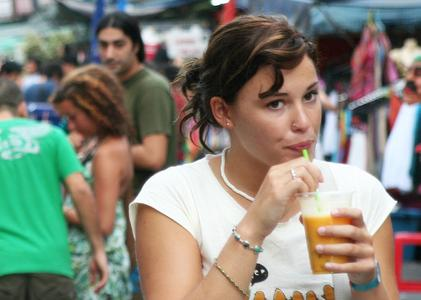person: (128, 13, 401, 300)
